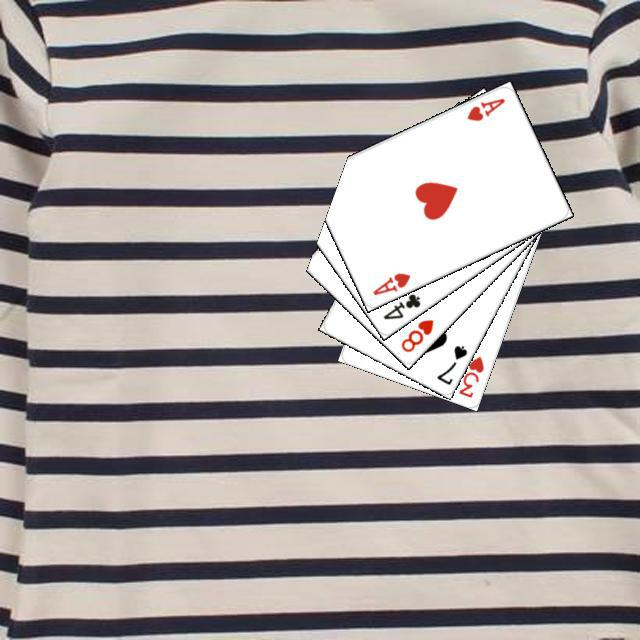3h: (453, 351, 485, 399)
4c: (378, 288, 422, 321)
7s: (432, 340, 469, 387)
8h: (396, 314, 435, 354)
Ah: (462, 93, 507, 123), (368, 268, 412, 297)
